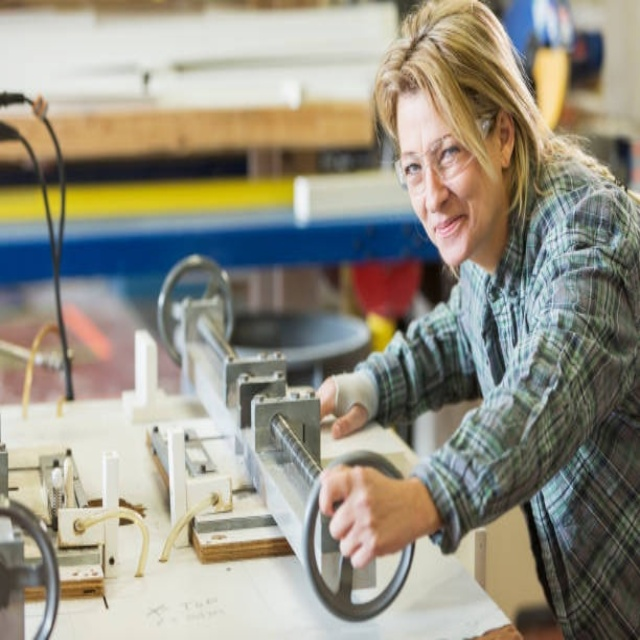Gafas: (393, 117, 488, 198)
Sin_guantes: (320, 463, 426, 565), (313, 372, 369, 438)
Sin_mascara: (430, 207, 476, 260)
